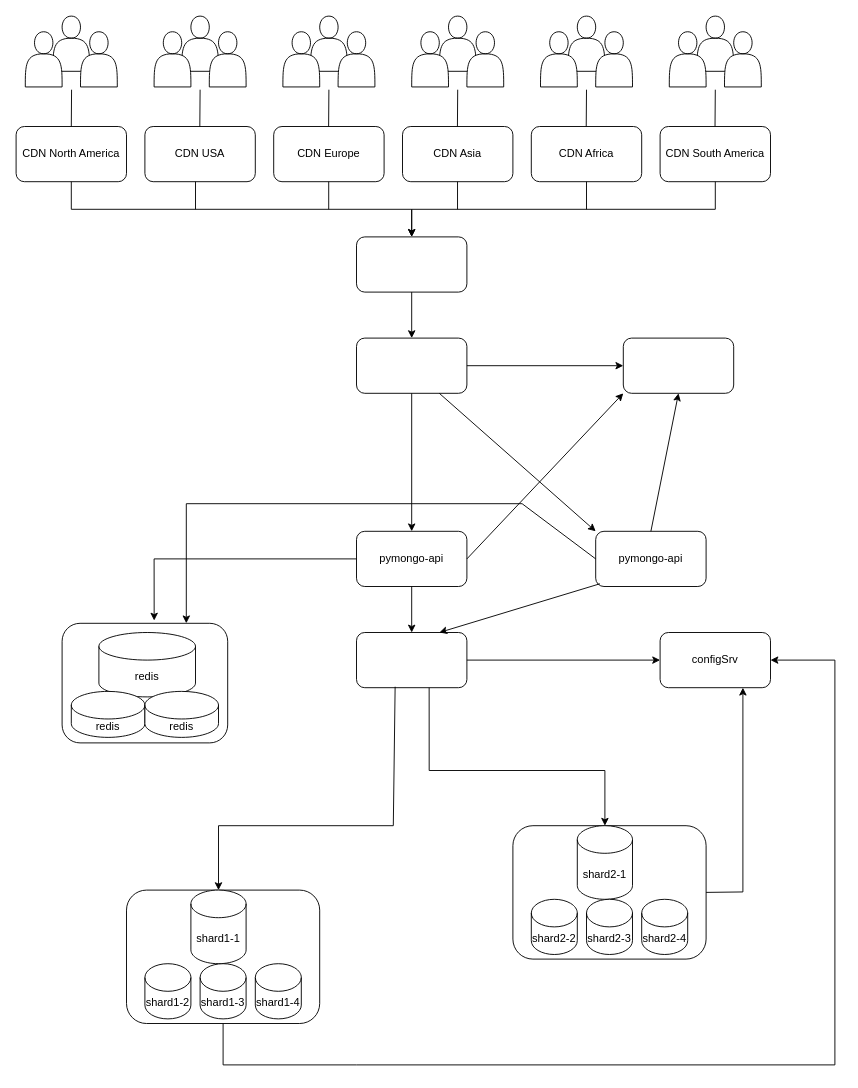
Some shapes in this 858 by 1088 pixel diagram are drawn without their labels. The shapes that lost their labels are listed below. From the top down, each one's centre as x and y in pixels, then its label:
At (x=411, y=264): "Основной сервер со статикой".
At (x=411, y=365): "APISIS Gateway".
At (x=678, y=365): "Consul".
At (x=411, y=660): "mongos router".
